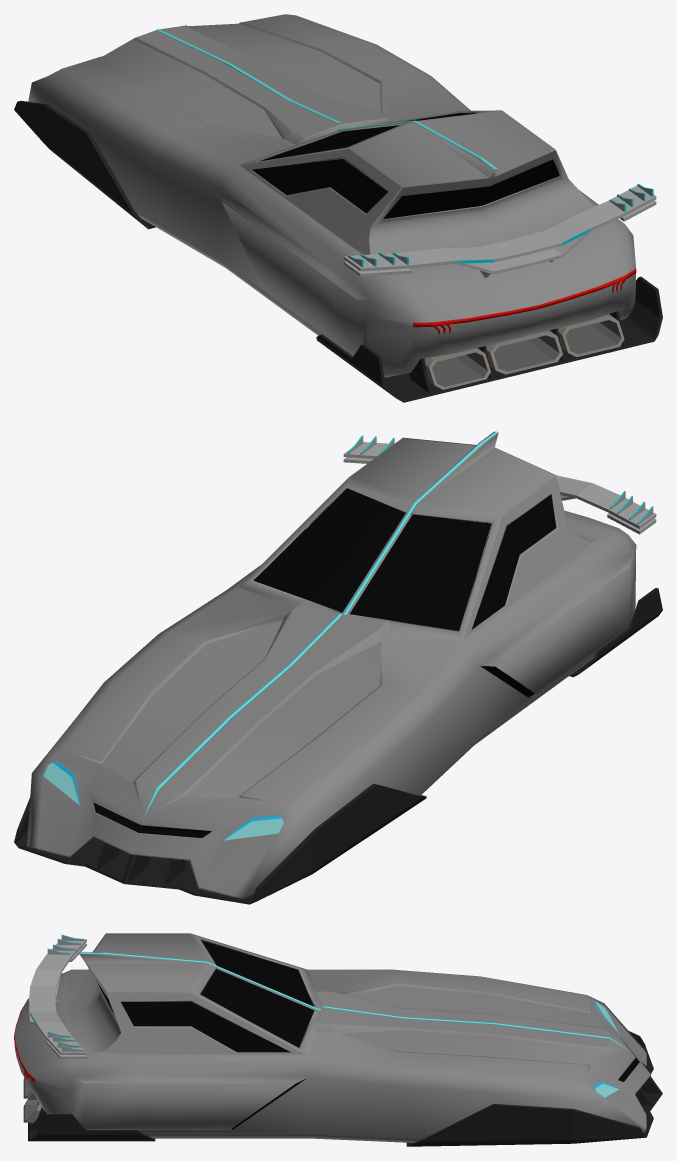
File: car10v02Material.fbx
3 renders of one model, top to bottom at view 1: azimuth 30°, elevation 25°; view 2: azimuth 150°, elevation 25°; view 3: azimuth 270°, elevation 25°, orthographic. The views are drawn at different scales.
Visible parts, largest first — view 1: exuast; view 2: exuast; view 3: exuast.
Part boxes in pixels (x1,y1,x2,y2): exuast: (14, 14, 662, 402); exuast: (14, 431, 662, 904); exuast: (14, 933, 662, 1146).
Bounding box in the file's own units: 3.13 × 7.59 × 1.82.
